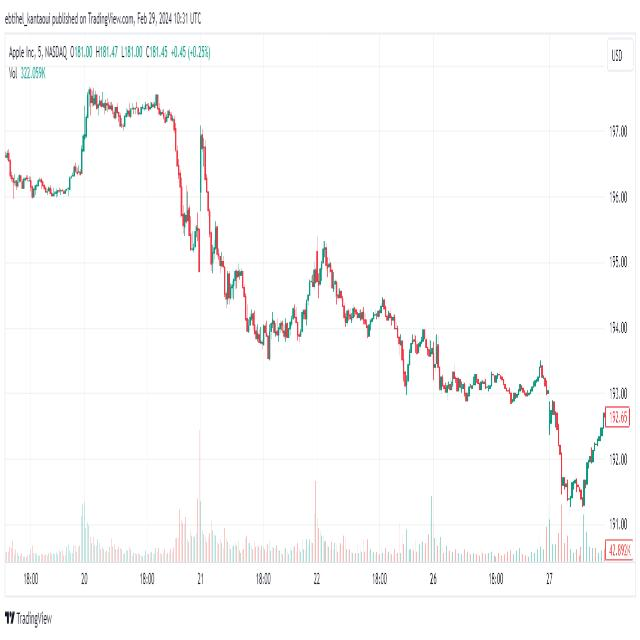Double-Bottom: (558, 438, 590, 524)
Double-Top: (74, 69, 180, 233)
Head-Shoulders: (298, 228, 352, 354), (403, 311, 443, 415)
